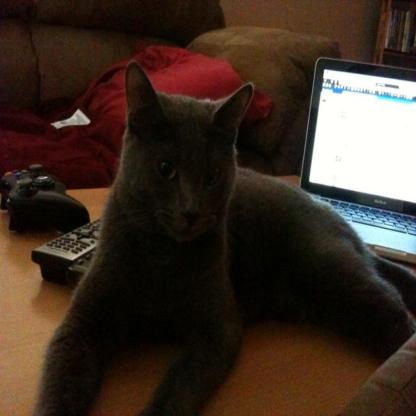board: (299, 57, 416, 265)
